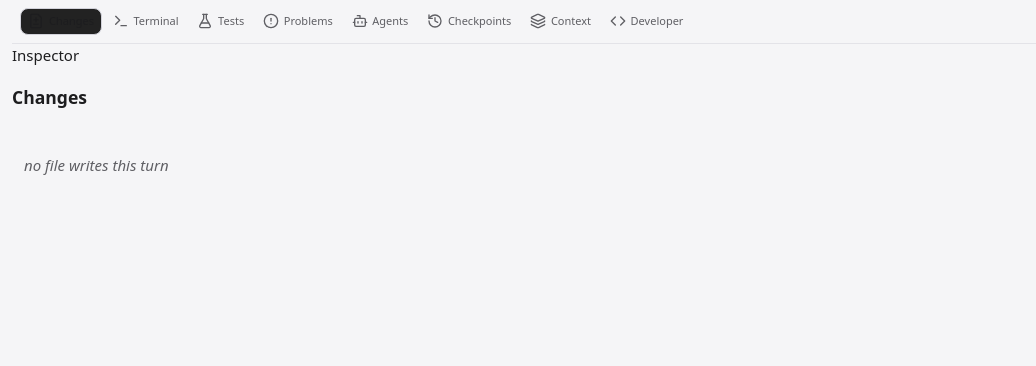
Test: AgentPanel › says when there is no turn yet, instead of an empty timeline
The image size is (1036, 366).
Step 1. Click the tab "Agents" → (380,21), box left=343, top=8, right=416, bottom=34
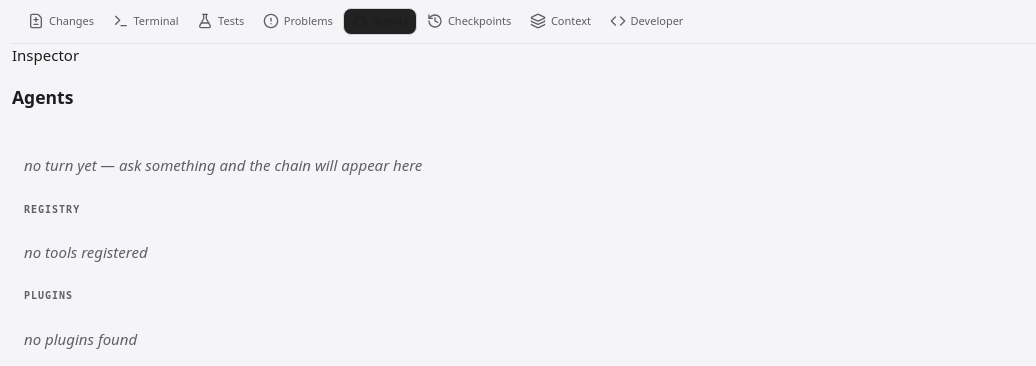
Now the panel shows "no turn yet", box left=24, top=155, right=422, bottom=175
